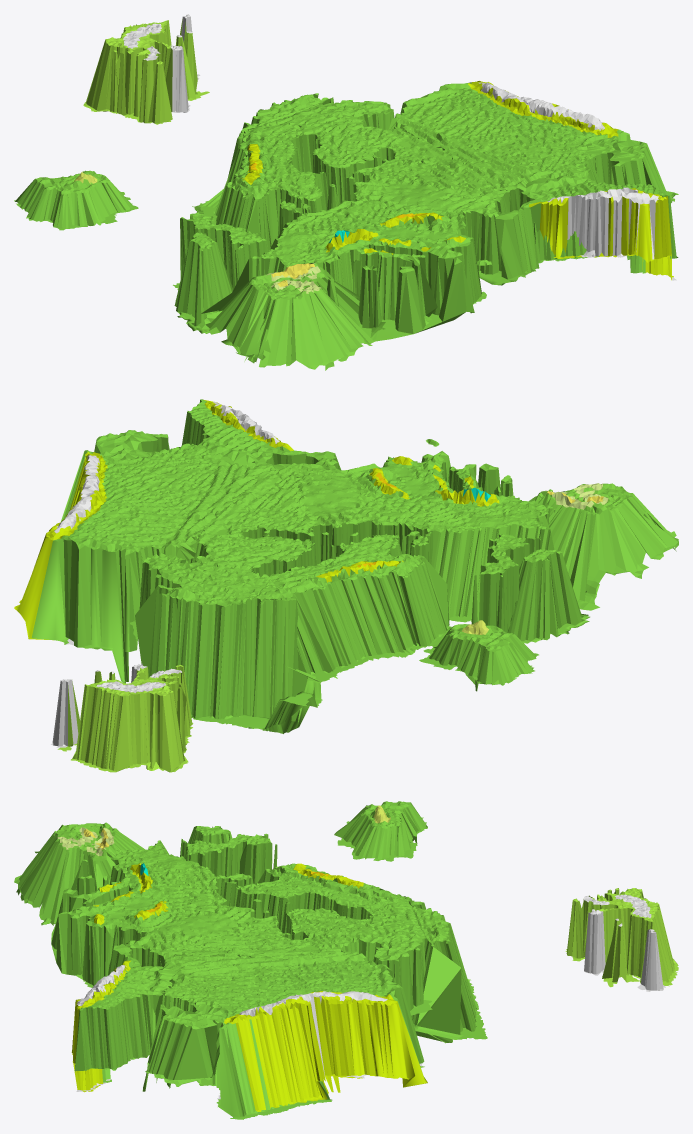
Rendered from evropa.fbx.
3 renders of one model, top to bottom at view 1: azimuth 30°, elevation 25°; view 2: azimuth 150°, elevation 25°; view 3: azimuth 270°, elevation 25°, orthographic. The views are drawn at different scales.
Parts seen in each view (by area): view 1: Evropa, Moskva, Spanija, Svalbard, Britanija i Irska, Land1, Island, Land3, Finska, Land2; view 2: Evropa, Moskva, Finska, Svalbard, Spanija, Britanija i Irska, Island, Land1, Land3; view 3: Evropa, Moskva, Svalbard, Land1, Finska, Spanija, Land3, Island, Britanija i Irska, Land2.
Part boxes in pixels (box(x1,y1,x2,y2)): Evropa: box(200, 100, 510, 343); Moskva: box(388, 81, 676, 280); Spanija: box(193, 262, 385, 370); Svalbard: box(83, 14, 209, 124); Britanija i Irska: box(173, 210, 267, 333); Land1: box(478, 174, 678, 285); Island: box(14, 170, 138, 230); Land3: box(607, 140, 678, 259); Finska: box(192, 93, 333, 216); Land2: box(585, 135, 619, 183); Evropa: box(130, 451, 555, 681); Moskva: box(14, 399, 293, 683); Finska: box(135, 585, 322, 733); Svalbard: box(51, 663, 193, 772); Spanija: box(529, 483, 678, 610); Britanija i Irska: box(471, 534, 589, 643); Island: box(419, 620, 538, 691); Land1: box(181, 399, 340, 469); Land3: box(94, 430, 169, 453); Evropa: box(51, 840, 432, 1015); Moskva: box(71, 951, 427, 1119); Svalbard: box(565, 888, 678, 991); Land1: box(74, 944, 178, 1071); Finska: box(397, 894, 487, 1043); Spanija: box(14, 822, 145, 925); Land3: box(142, 1004, 217, 1091); Island: box(334, 801, 427, 861); Britanija i Irska: box(180, 826, 277, 883); Land2: box(189, 1002, 226, 1080).
Bounding box in the file's own units: 4723 × 1073 × 5366.
